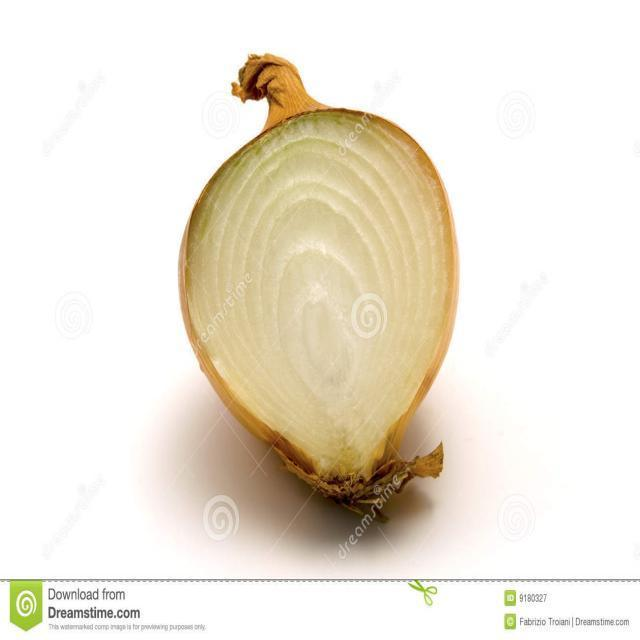onion: (176, 51, 461, 516)
